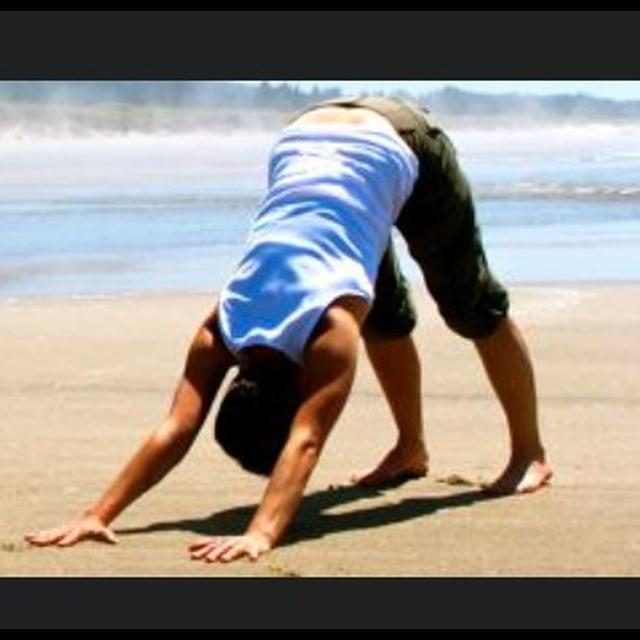Downward-Facing_Dog: (25, 90, 554, 565)
